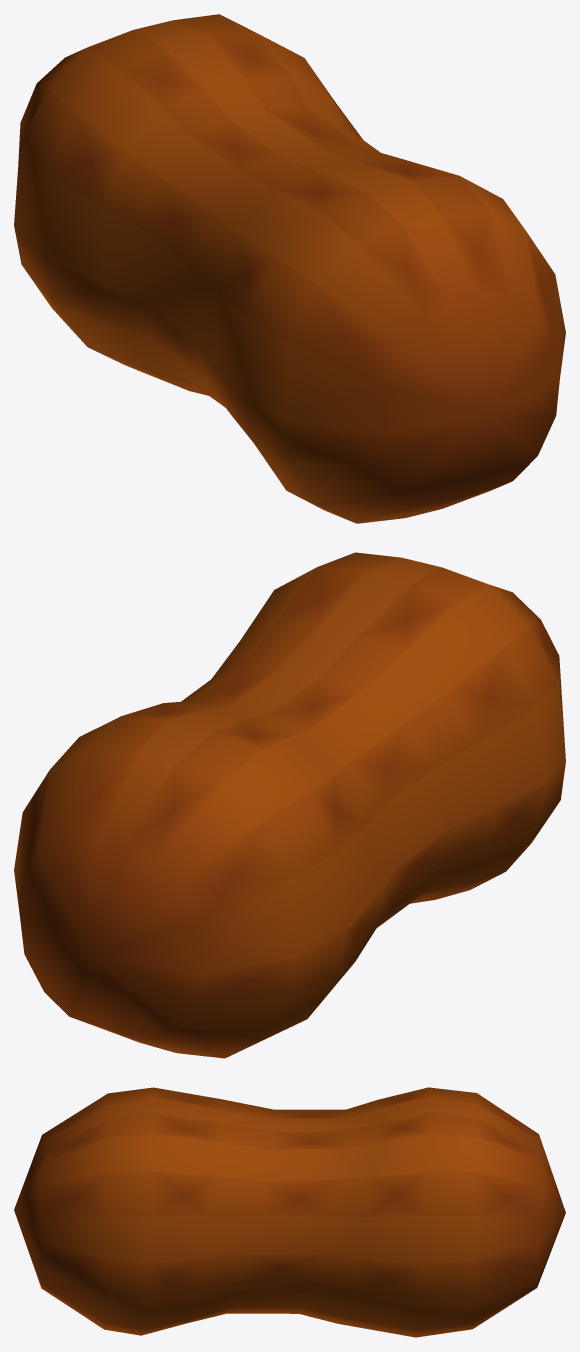
File: Peanut_Regular.fbx
The picture shows the model from 3 angles, top to bottom: view 1: azimuth 30°, elevation 25°; view 2: azimuth 150°, elevation 25°; view 3: azimuth 270°, elevation 25°; orthographic projection. The views are drawn at different scales.
Visible parts, largest first — view 1: Peanut_Regular; view 2: Peanut_Regular; view 3: Peanut_Regular.
Boxes of the visible parts, bbox=[...] form: Peanut_Regular: bbox=[14, 14, 565, 523]; Peanut_Regular: bbox=[14, 552, 565, 1058]; Peanut_Regular: bbox=[14, 1087, 565, 1337].
Size of the model in its own units: 6.75 by 6.64 by 15.46.
